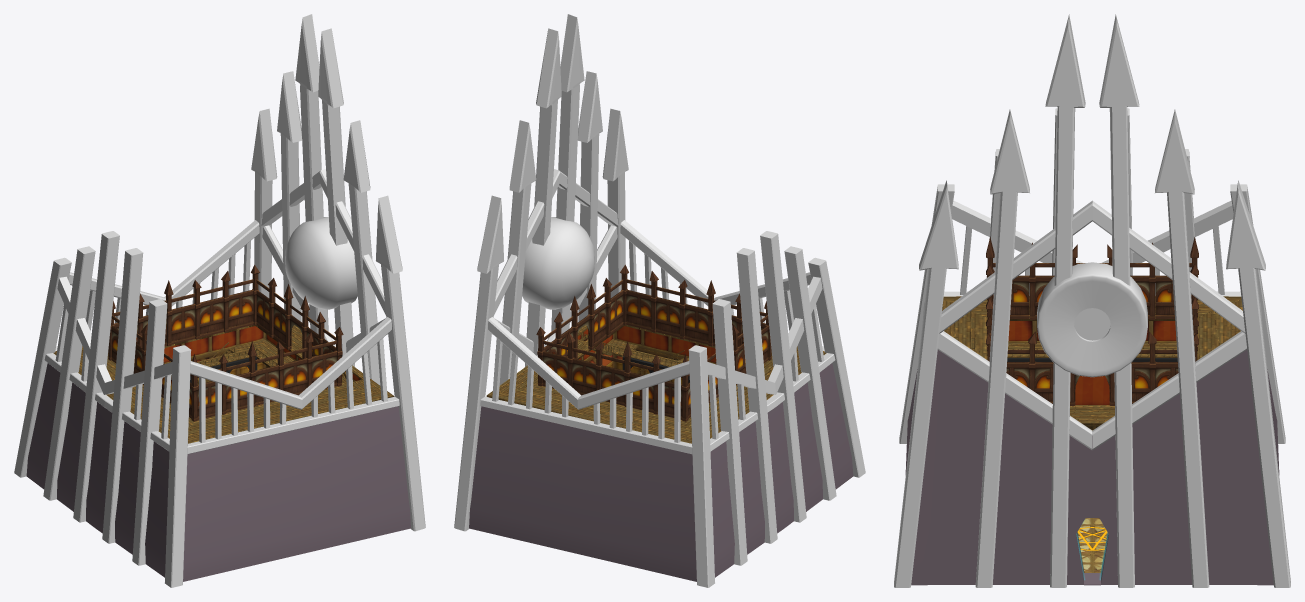
File: mansion.glb
The picture shows the model from 3 angles, left to right: view 1: azimuth 30°, elevation 25°; view 2: azimuth 150°, elevation 25°; view 3: azimuth 270°, elevation 25°; orthographic projection. The views are drawn at different scales.
Parts seen in each view (by area): view 1: Cube.026, outer_wall, Cube.028, Cube.002, Cylinder.010, Plane.004, mansion_outer_walls, Plane.003; view 2: Cube.026, outer_wall, Cube.028, Cube.002, Cylinder.010, Plane.004, mansion_outer_walls, Plane.003; view 3: Cube.028, outer_wall, Cylinder.010, Cube.026, Cube.002, Plane.004, mansion_outer_walls, FLOOR_CUT, Plane.003.
Boxes of the visible parts, x1,y1,x2,y2 form: Cube.026: (14,220,399,587); outer_wall: (26,363,410,581); Cube.028: (251,14,425,531); Cube.002: (108,264,343,421); Cylinder.010: (285,217,357,309); Plane.004: (53,325,394,443); mansion_outer_walls: (163,326,360,381); Plane.003: (199,340,294,367); Cube.026: (480,220,865,587); outer_wall: (469,363,853,581); Cube.028: (454,14,628,531); Cube.002: (536,264,771,421); Cylinder.010: (522,217,594,309); Plane.004: (486,325,826,443); mansion_outer_walls: (577,326,716,384); Plane.003: (604,340,688,366); Cube.028: (894,14,1290,587); outer_wall: (905,350,1279,585); Cylinder.010: (1037,262,1147,377); Cube.026: (899,108,1285,443); Cube.002: (986,237,1198,405); Plane.004: (942,296,1242,429); mansion_outer_walls: (1008,321,1176,572); FLOOR_CUT: (1078,518,1107,572); Plane.003: (1007,343,1177,357).
Size of what is drawn, in the model's own units: 42.38 by 72.19 by 46.72.
16 materials, 10 textured.
